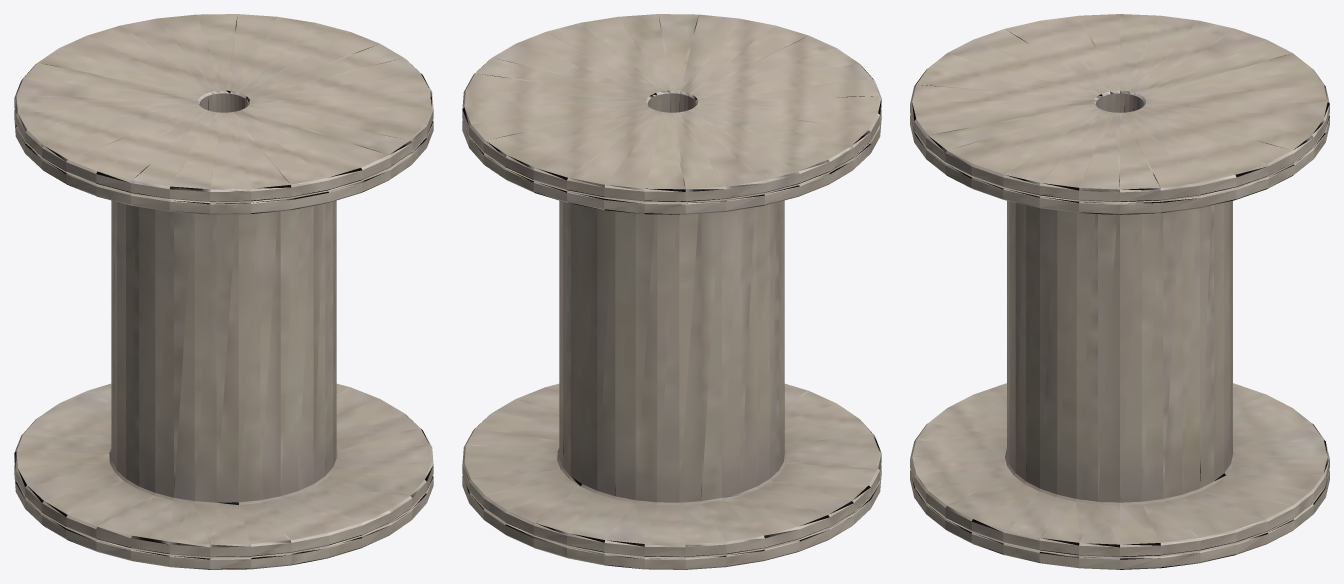
Rendered from cable-spool.glb.
3 views of the same model, side by side, from view 1: azimuth 30°, elevation 25°; view 2: azimuth 150°, elevation 25°; view 3: azimuth 270°, elevation 25° (orthographic).
Parts seen in each view (by area): view 1: low; view 2: low; view 3: low.
Boxes of the visible parts, box(x1,y1,x2,y2) form: low: box(14, 14, 433, 569); low: box(462, 14, 881, 569); low: box(910, 14, 1329, 569).
Bounding box in the file's own units: 0.8 × 0.8 × 0.8.
1 material, 1 textured.
